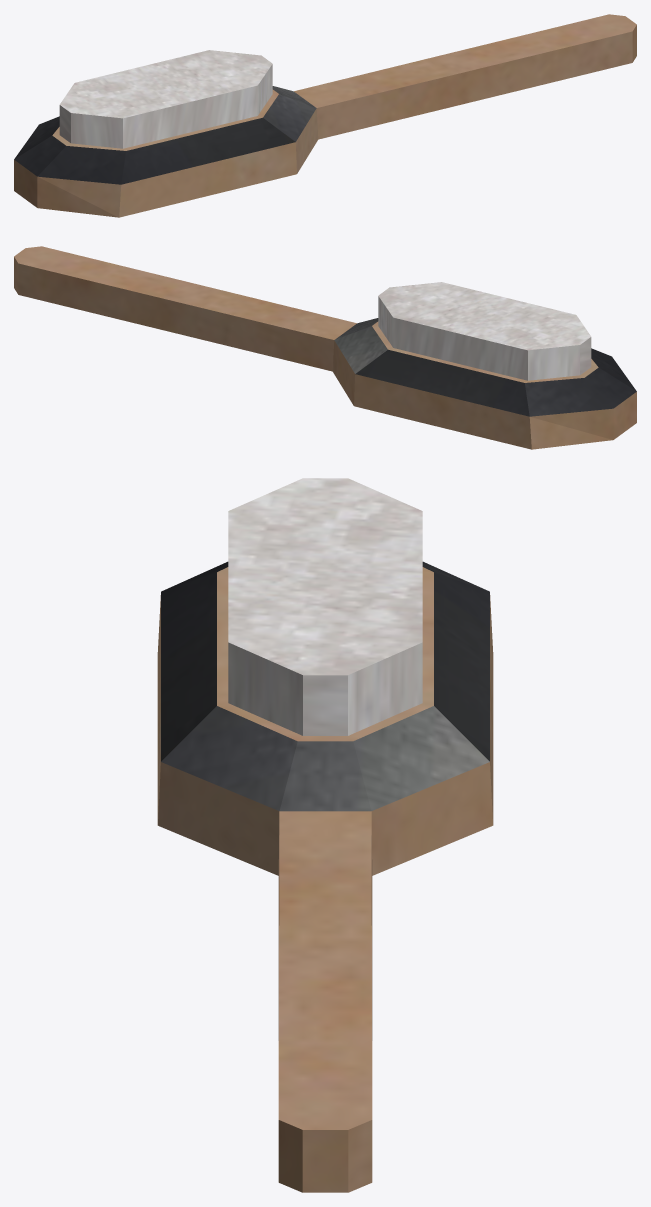
The model's file is comb1.FBX.
3 renders of one model, top to bottom at view 1: azimuth 30°, elevation 25°; view 2: azimuth 150°, elevation 25°; view 3: azimuth 270°, elevation 25°, orthographic. The views are drawn at different scales.
Visible parts, largest first — view 1: Box001, Object001, Object002; view 2: Box001, Object001, Object002; view 3: Box001, Object001, Object002.
Boxes of the visible parts, x1,y1,x2,y2 form: Box001: (14, 14, 636, 217); Object001: (59, 50, 272, 148); Object002: (14, 86, 316, 184); Box001: (14, 246, 636, 449); Object001: (378, 282, 591, 380); Object002: (334, 318, 636, 416); Box001: (157, 567, 493, 1192); Object001: (228, 478, 422, 735); Object002: (161, 561, 489, 811).
Size of the model in its own units: 146 by 18.65 by 34.96.
Materials: 3 (3 with a texture image).
